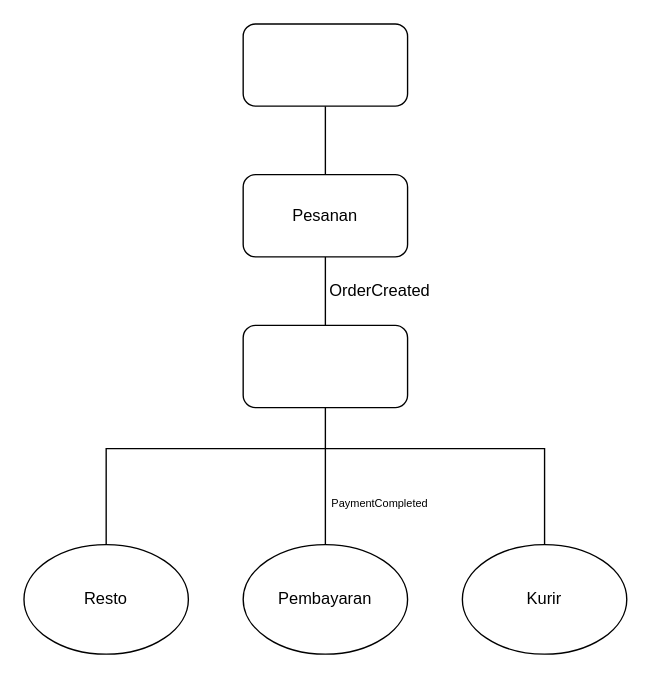
Image size: 651x678. Some labels were removed from this diagram. Here are the shapes that lost their labels. From the top down, the centre of each, then its label:
(x=325, y=64): Pelanggan
(x=325, y=366): Message Broker
